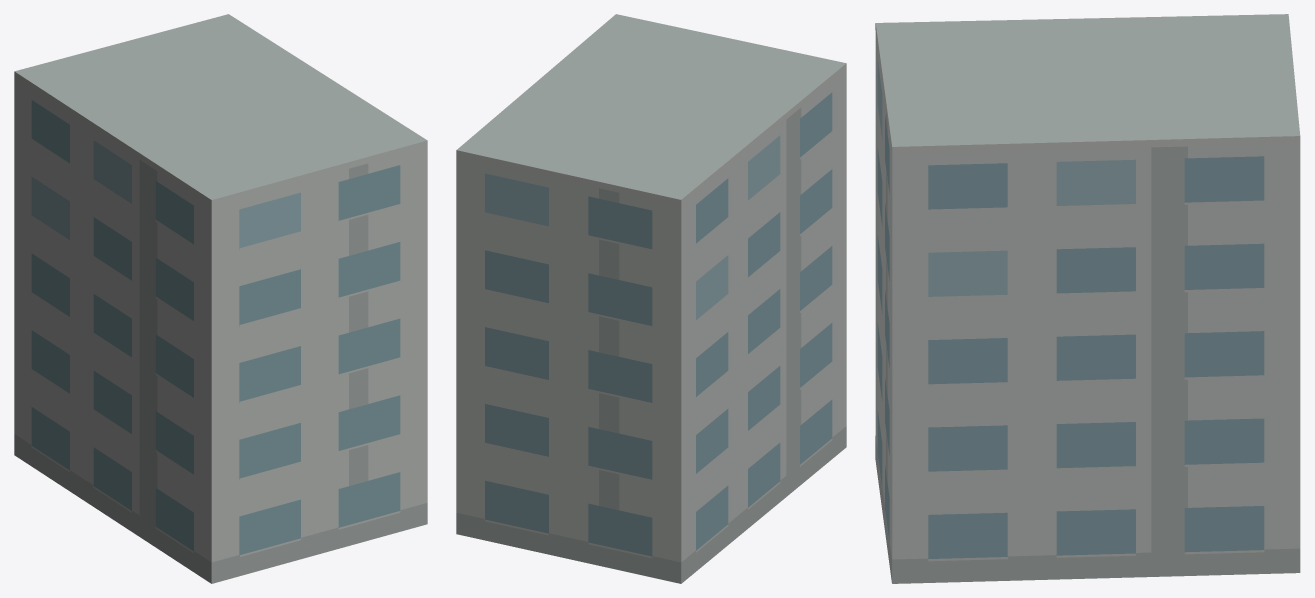
File: survey-upis-32892439.glb
3 views of the same model, side by side, from view 1: azimuth 30°, elevation 25°; view 2: azimuth 150°, elevation 25°; view 3: azimuth 270°, elevation 25° (orthographic). The views are drawn at different scales.
Visible parts, largest first — view 1: survey-upis-32892439.tmp; view 2: survey-upis-32892439.tmp; view 3: survey-upis-32892439.tmp.
Part boxes in pixels (box(x1,y1,x2,y2)): survey-upis-32892439.tmp: box(14, 14, 427, 583); survey-upis-32892439.tmp: box(456, 14, 846, 583); survey-upis-32892439.tmp: box(875, 14, 1300, 583).
Bounding box in the file's own units: 9.34 × 14.3 × 12.61.
